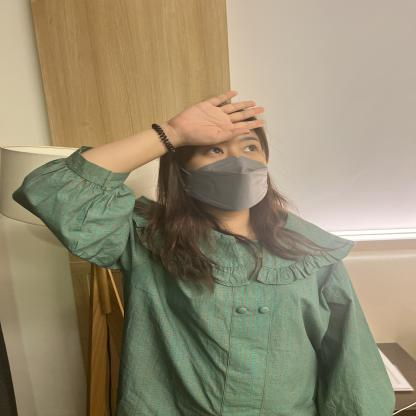Sick: (12, 75, 340, 242)
